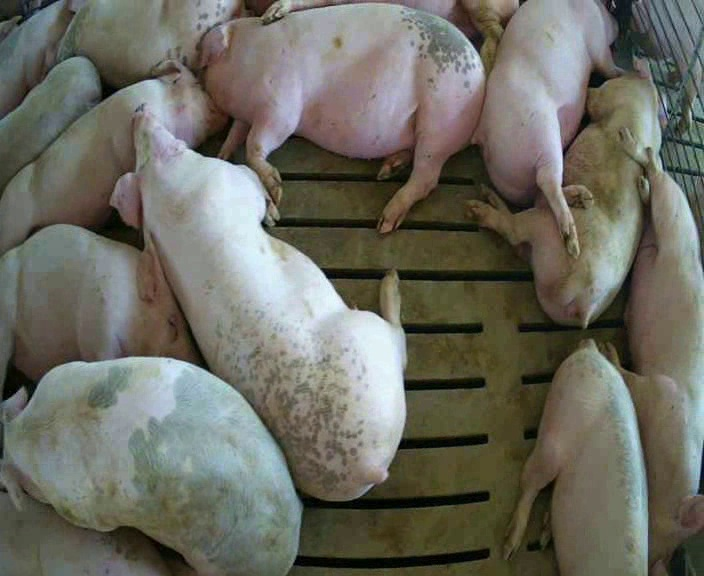pig: (111, 109, 405, 500), (193, 4, 484, 232), (466, 55, 669, 327), (598, 129, 703, 575), (0, 61, 225, 255), (504, 339, 647, 574), (57, 1, 254, 88), (0, 57, 101, 192), (0, 1, 84, 118)
